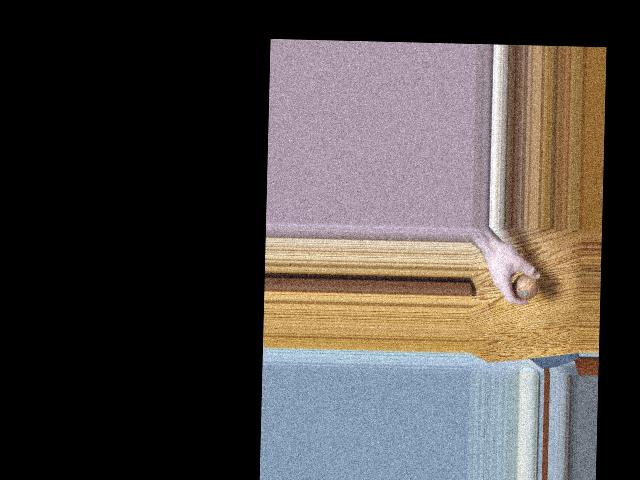onion: (508, 270, 537, 301)
